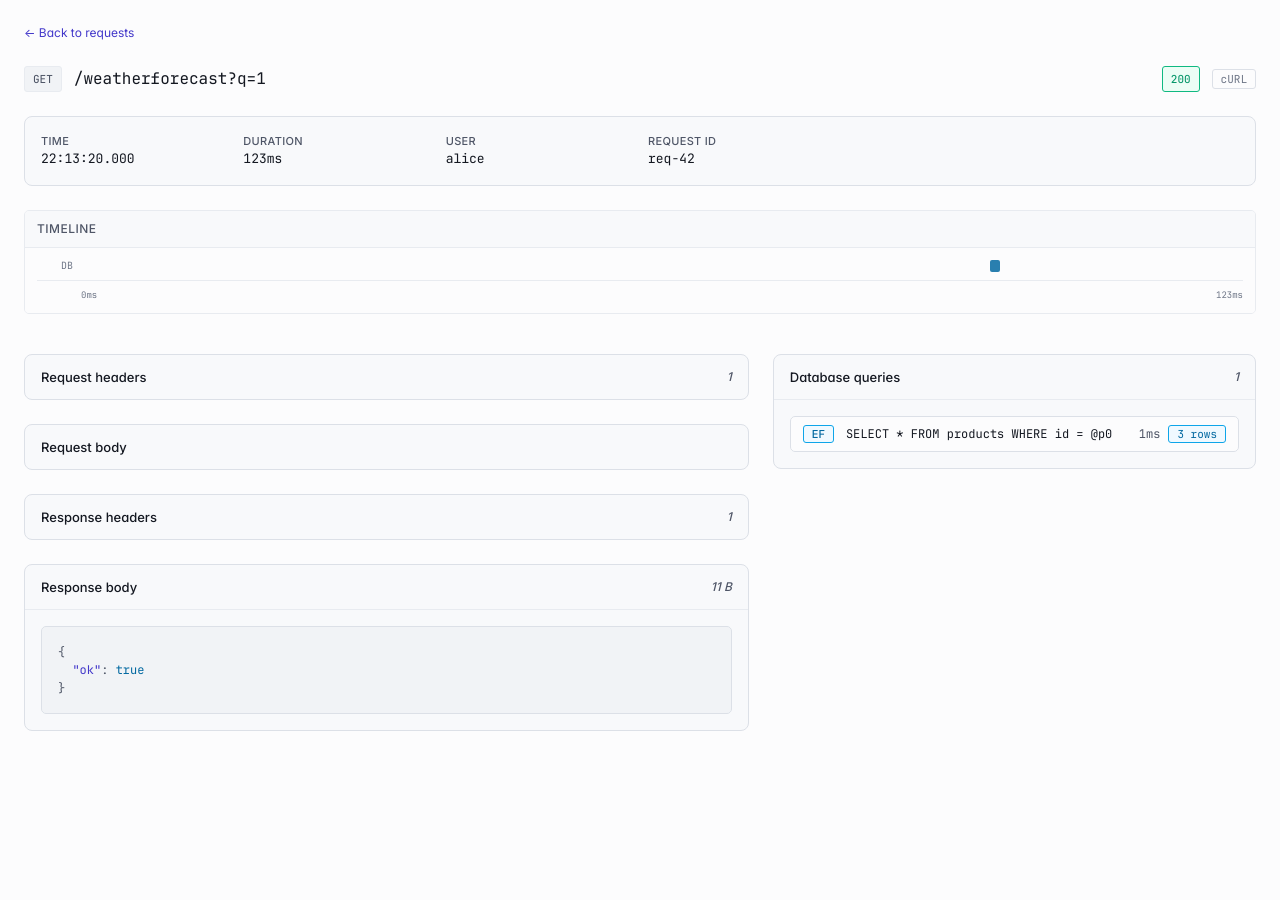
Scenario: RequestDetail › toggles a db row body when the header is clicked
Click the button "EF SELECT * FROM products WHERE id = @p0 1ms 3 rows": (1014, 434) [791,417,1238,451]
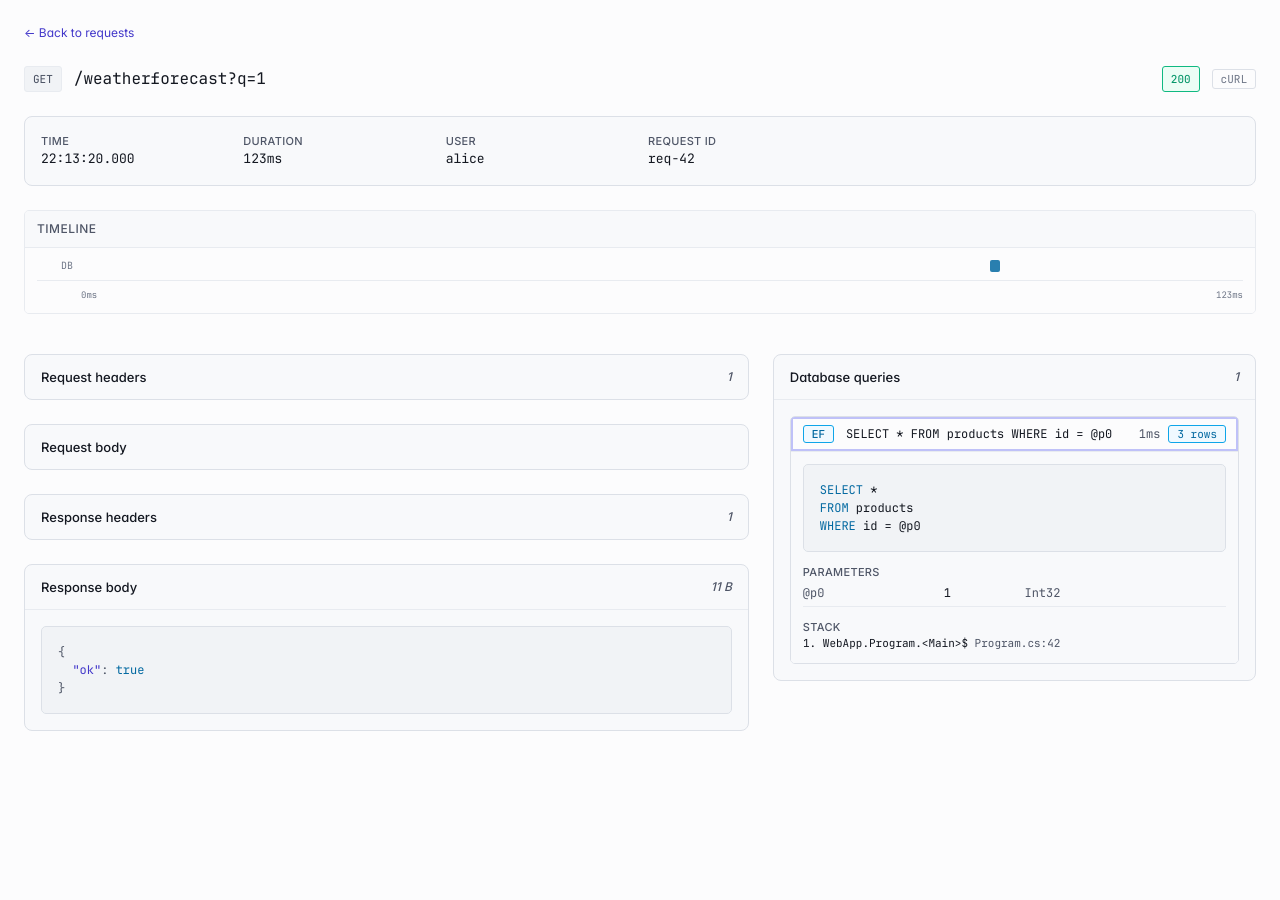
Result: the element with test id "ef-query-body" is shown at [791,451,1238,663]
Click the button "EF SELECT * FROM products WHERE id = @p0 1ms 3 rows": (1014, 434) [791,417,1238,451]
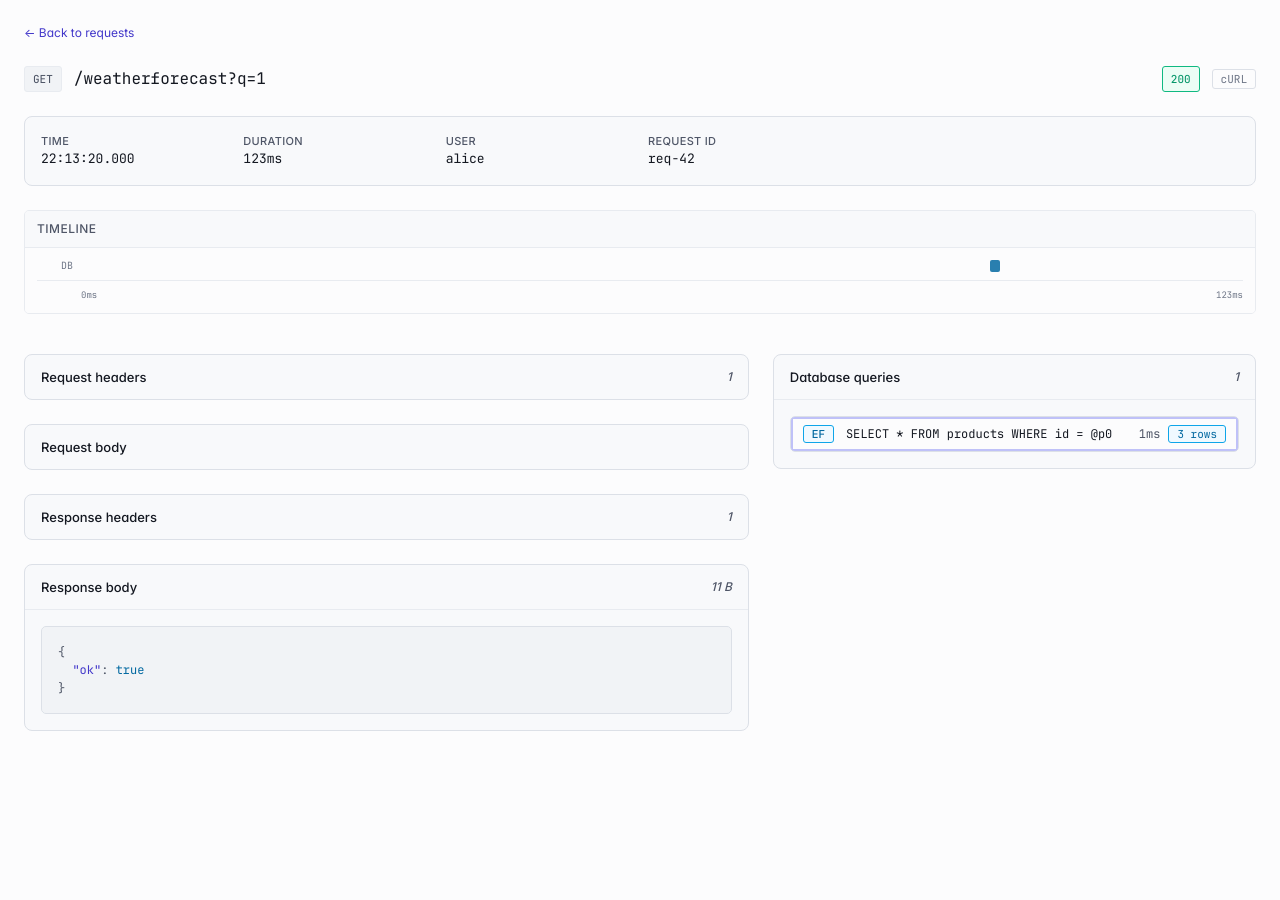
Result: the element with test id "ef-query-body" is gone
